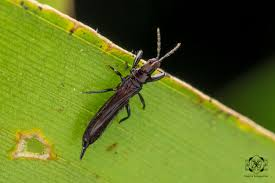Phlaeothripidae: (78, 26, 182, 161)
